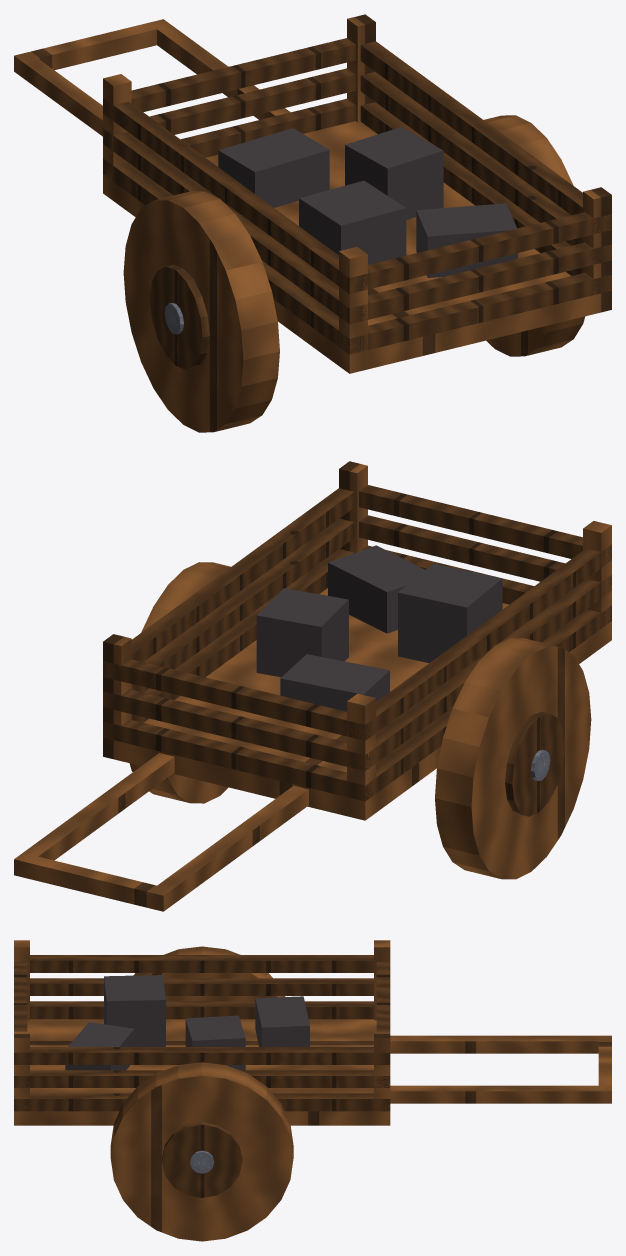
File: holzwagen_t1_halb.fbx
3 views of the same model, one above another, from view 1: azimuth 30°, elevation 25°; view 2: azimuth 150°, elevation 25°; view 3: azimuth 270°, elevation 25° (orthographic). The views are drawn at different scales.
Visible parts, largest first — view 1: Holzwagen_T1; view 2: Holzwagen_T1; view 3: Holzwagen_T1.
Boxes of the visible parts, <box> form: Holzwagen_T1: <box>14,14,611,432</box>; Holzwagen_T1: <box>14,461,611,911</box>; Holzwagen_T1: <box>14,940,611,1241</box>.
Bounding box in the file's own units: 121 × 77 × 222.
